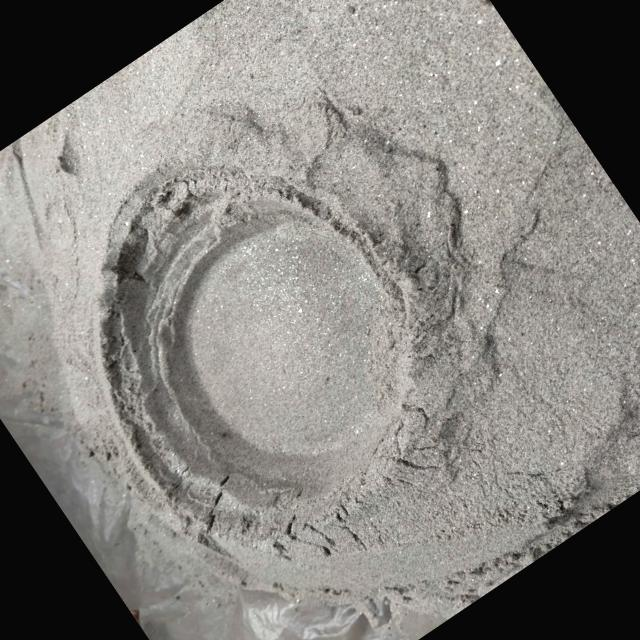C20: (109, 173, 421, 504)
